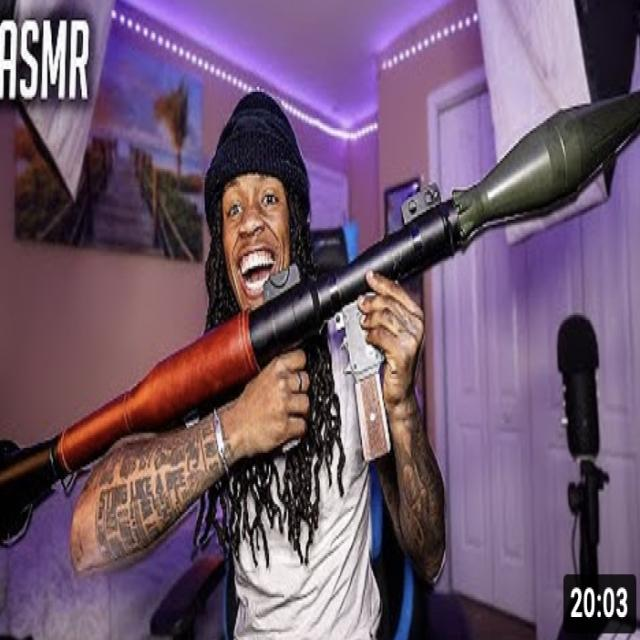bazooka: (1, 45, 640, 578)
